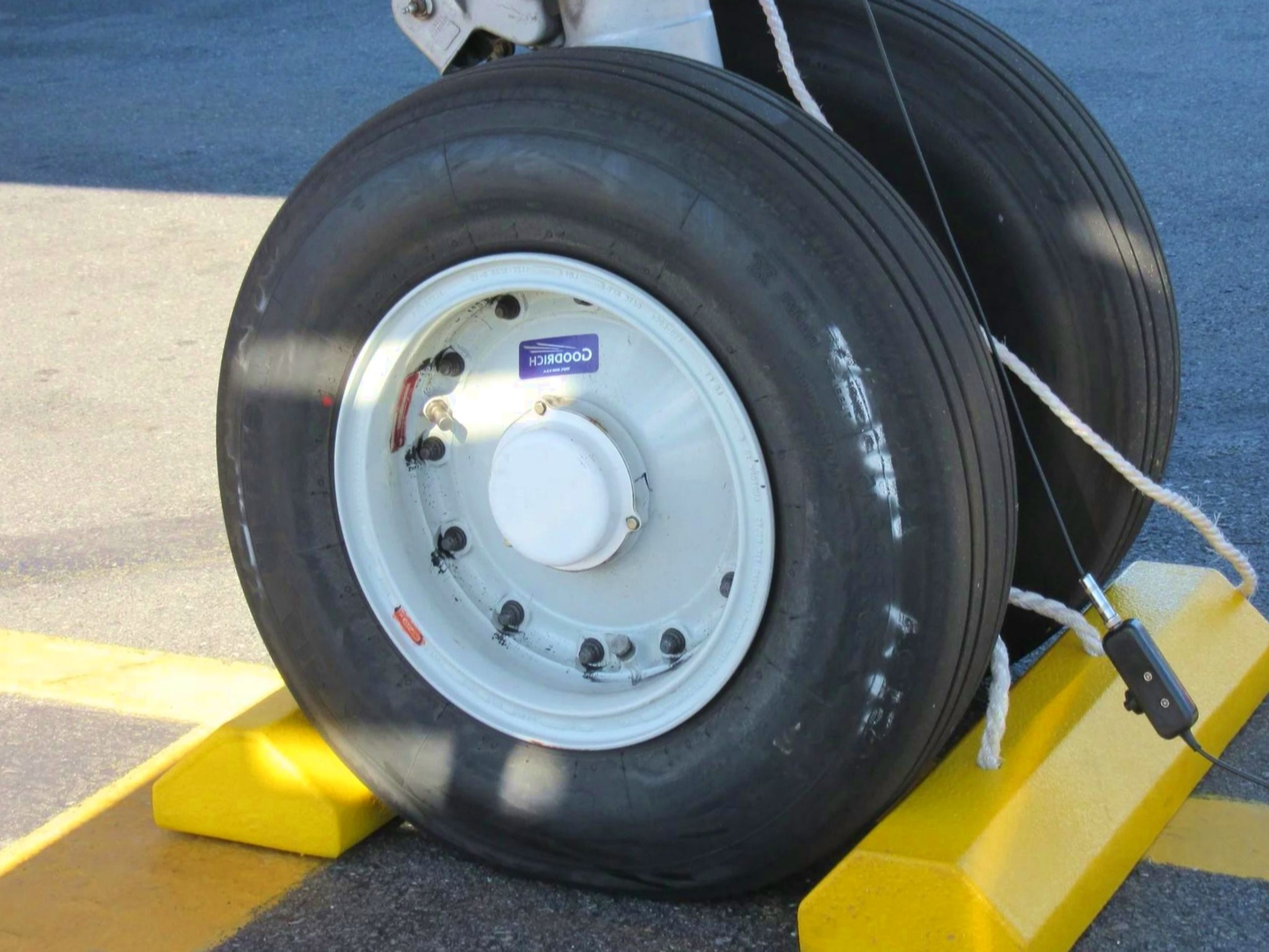chock: (792, 524, 1269, 952), (146, 508, 555, 859)
wheel: (190, 43, 1021, 898), (722, 0, 1185, 625)
